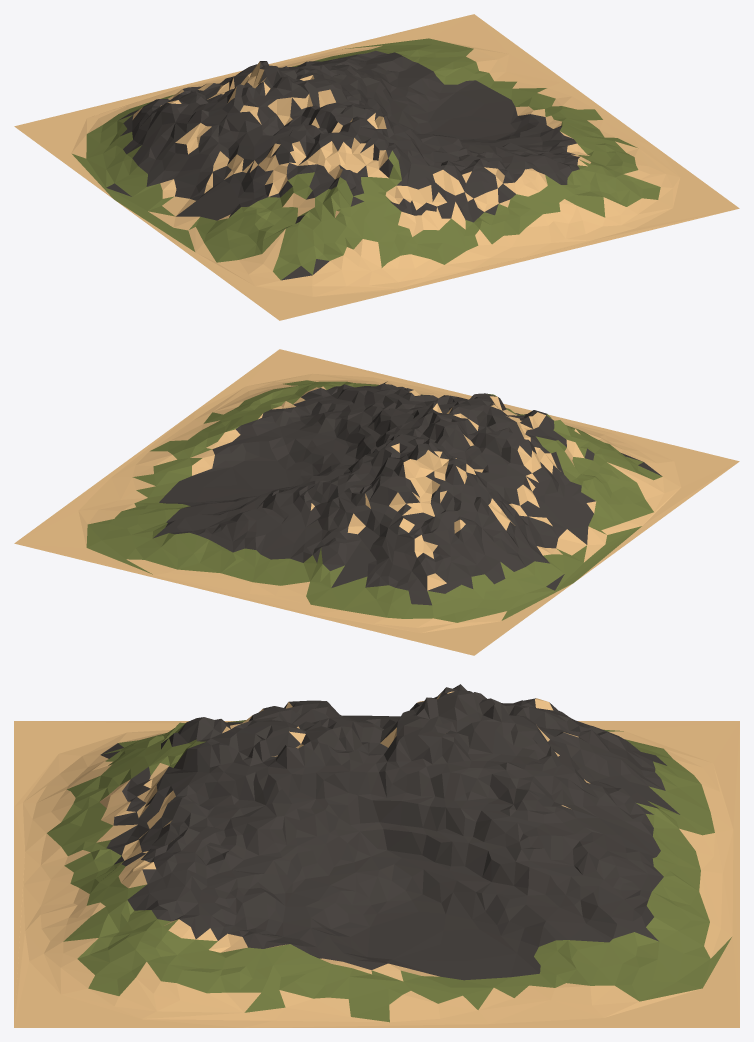
The model's file is game_terrain_1.glb.
3 renders of one model, top to bottom at view 1: azimuth 30°, elevation 25°; view 2: azimuth 150°, elevation 25°; view 3: azimuth 270°, elevation 25°, orthographic. The views are drawn at different scales.
Visible parts, largest first — view 1: Landscape.001; view 2: Landscape.001; view 3: Landscape.001.
Part boxes in pixels (x1,y1,x2,y2): Landscape.001: (14,14,739,320); Landscape.001: (14,349,739,655); Landscape.001: (14,684,739,1027).
Size of the model in its own units: 2 by 0.402 by 2.
